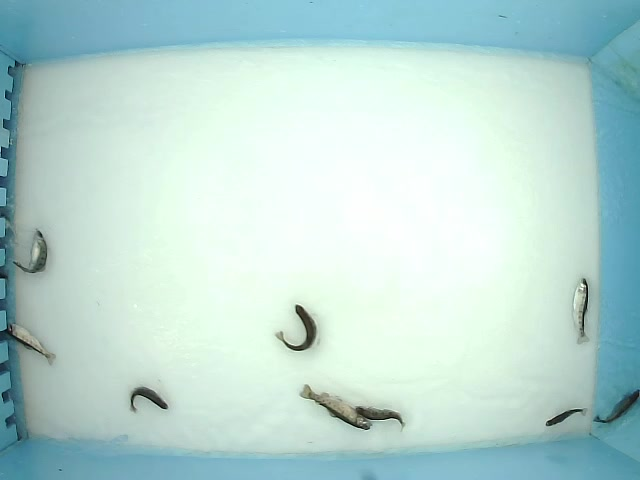fish: (297, 382, 376, 429), (592, 374, 639, 429), (2, 321, 57, 367), (276, 299, 319, 353), (11, 229, 49, 276), (569, 278, 592, 346), (127, 380, 170, 415), (358, 406, 407, 428), (546, 404, 586, 429)
